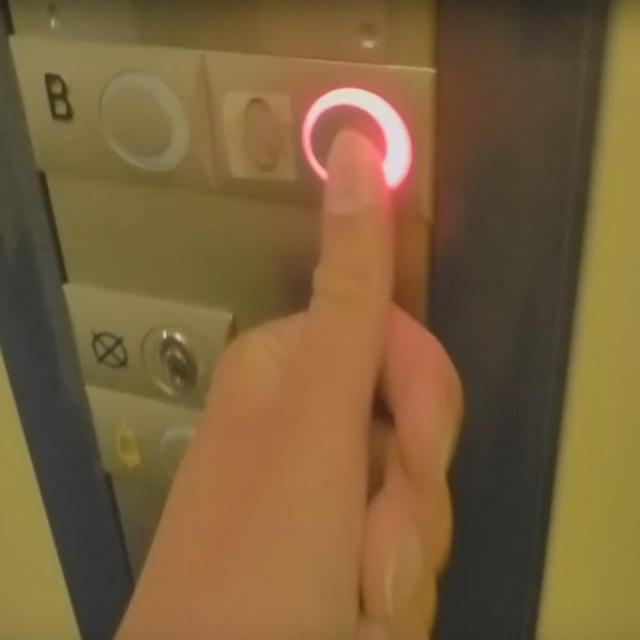B: (5, 30, 218, 194)
alarm: (83, 385, 235, 520)
blur: (198, 48, 438, 226)
stop: (62, 280, 239, 409)
